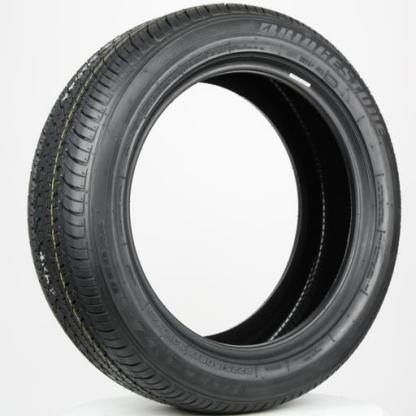Tire: (25, 2, 404, 415)
